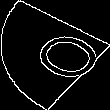O_SE: (8, 22, 102, 88)
